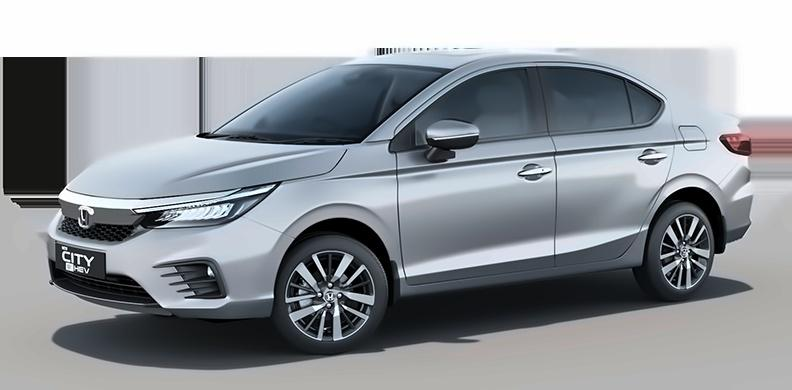Car hood: (65, 134, 347, 200)
Fender - -F-L-: (228, 141, 411, 311)
Fender - -R-L-: (630, 70, 745, 246)
Front bumper: (39, 210, 295, 320)
Headlight - -L-: (131, 181, 281, 229)
Passenger-s door - -F-L-: (389, 53, 560, 298)
Passenger-s door - -R-L-: (527, 49, 681, 296)
Rear bumper: (708, 154, 755, 246)
Rear light - -L-: (718, 131, 752, 158)
Side bumper - -L-: (389, 227, 656, 302)
Side mirror - -L-: (421, 118, 480, 161)
